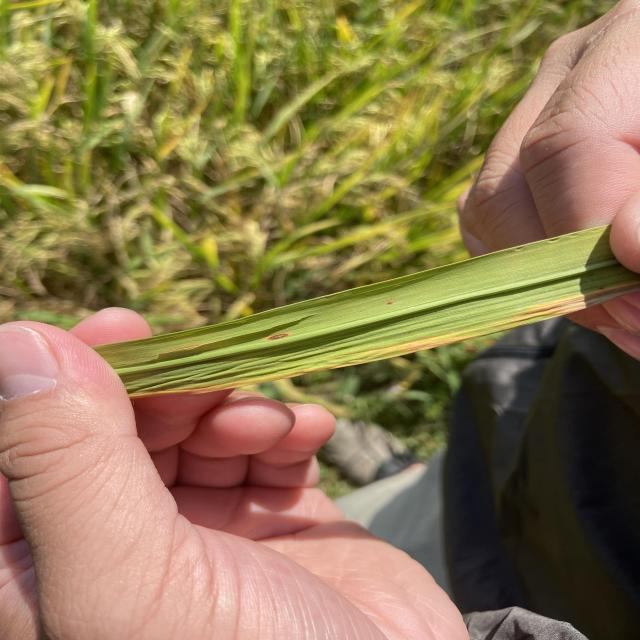Dom nau: (269, 334, 288, 340), (387, 302, 391, 305)
